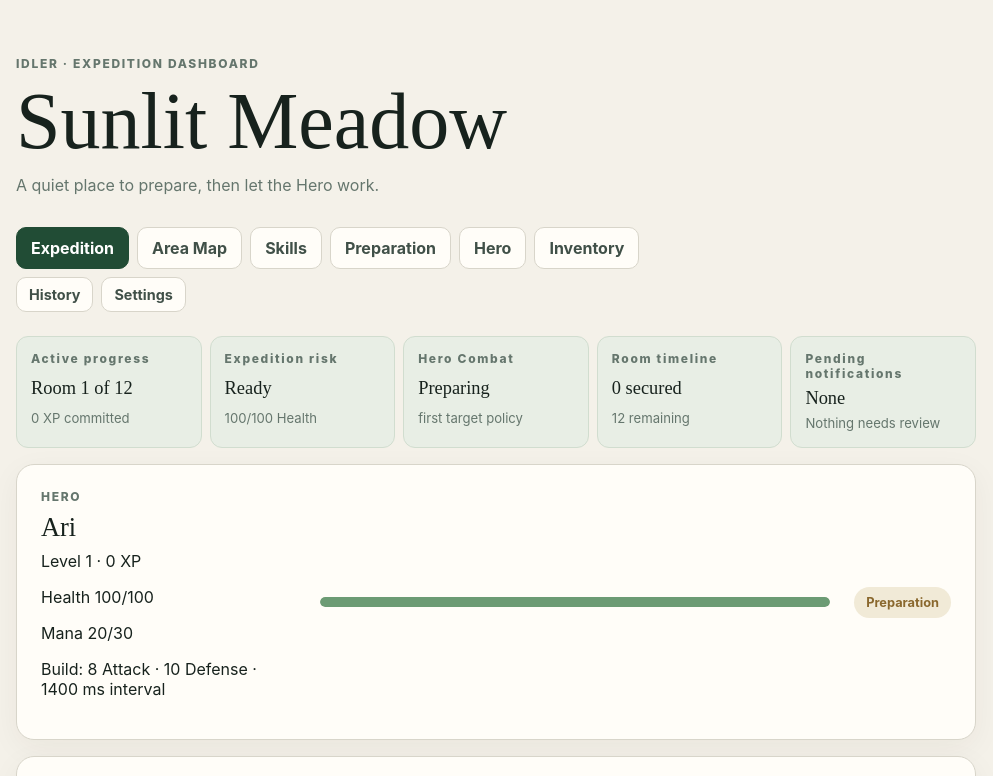
Test case: playable browser shell › shows Skill trees, prerequisites, descriptions, and Aura or Ultimate rank-up controls
Click the link "Skills".
click(286, 248)  # box 250,227 -> 322,269
(page scrolled)
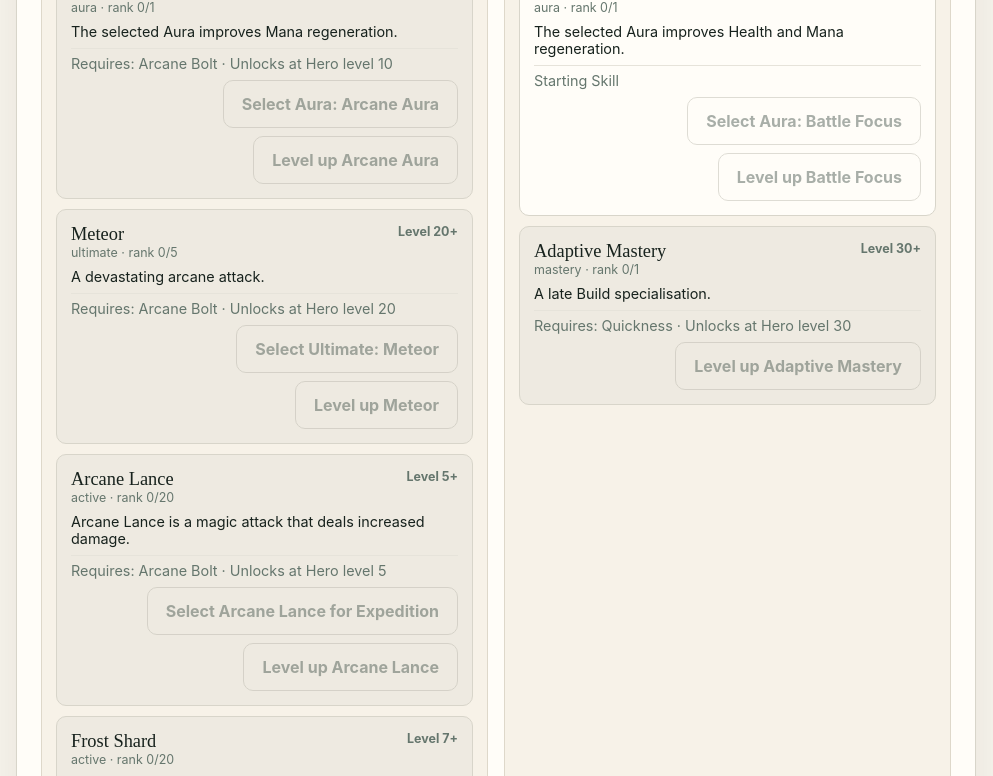
Result: the text "The selected Aura improves Mana regeneration." is shown at 71,23 -> 398,40
Result: the button "Level up Arcane Aura" is disabled at 253,136 -> 458,184
Result: the button "Level up Meteor" is disabled at 295,381 -> 458,429
